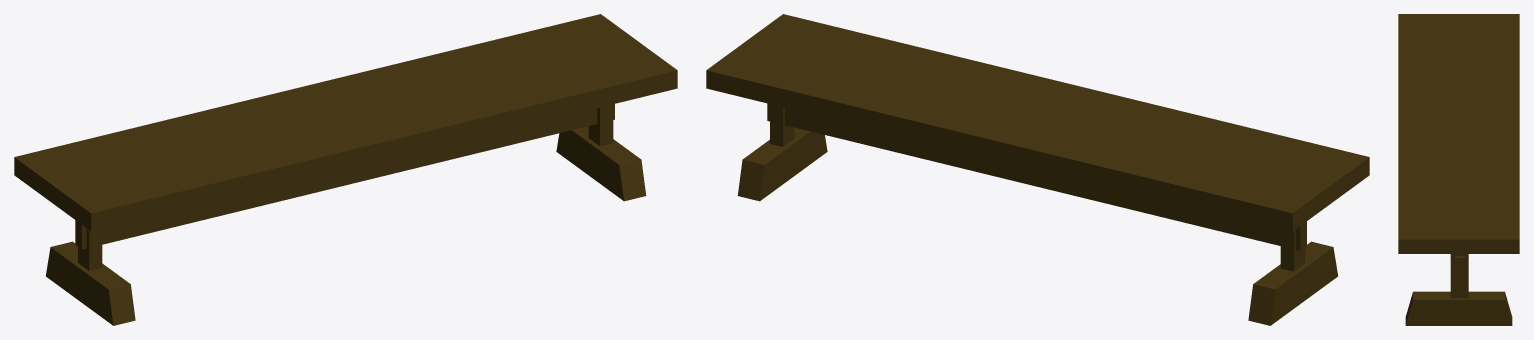
The model's file is DD_8_cafeteriaBench_HENRY.fbx.
The picture shows the model from 3 angles, left to right: view 1: azimuth 30°, elevation 25°; view 2: azimuth 150°, elevation 25°; view 3: azimuth 270°, elevation 25°; orthographic projection. The views are drawn at different scales.
Parts seen in each view (by area): view 1: DD_8_cafeteriaBench; view 2: DD_8_cafeteriaBench; view 3: DD_8_cafeteriaBench.
Part boxes in pixels (x1,y1,x2,y2): DD_8_cafeteriaBench: (14, 14, 677, 325); DD_8_cafeteriaBench: (706, 14, 1369, 325); DD_8_cafeteriaBench: (1398, 14, 1519, 325).
Size of the model in its own units: 21.57 by 4.3 by 4.9.
